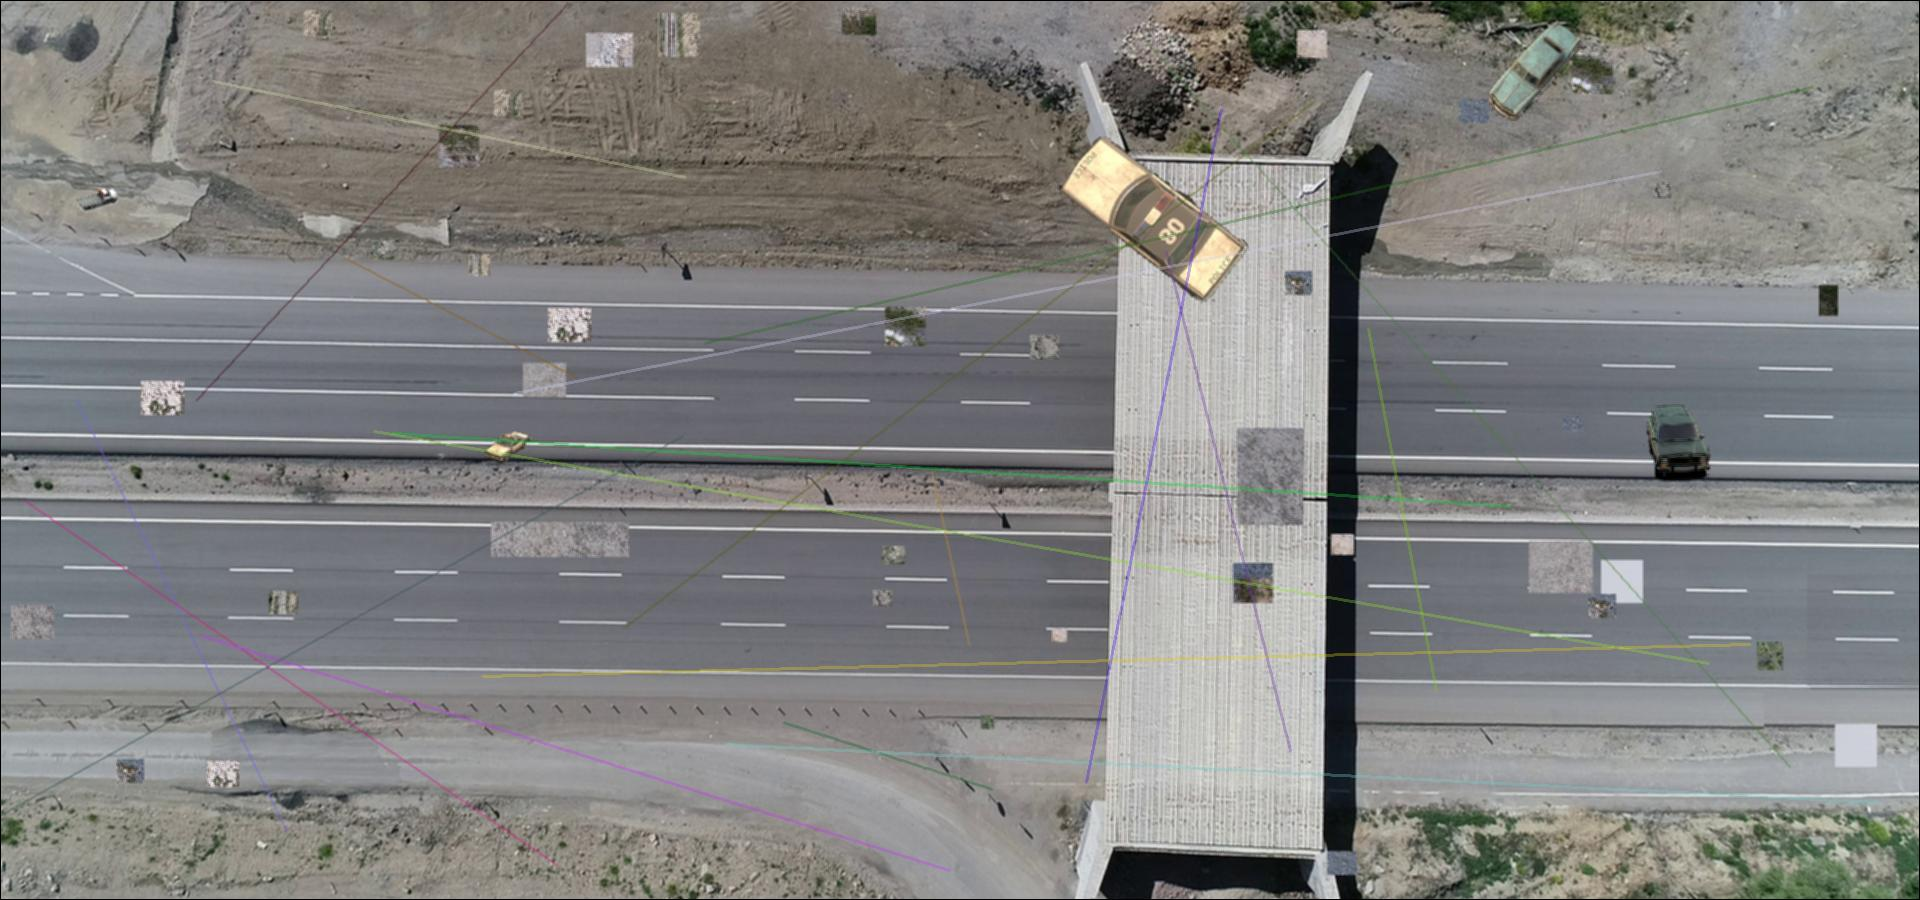arac: (1056, 131, 1251, 306), (1490, 15, 1583, 120), (1643, 403, 1711, 482), (484, 430, 531, 465), (76, 185, 119, 212)
